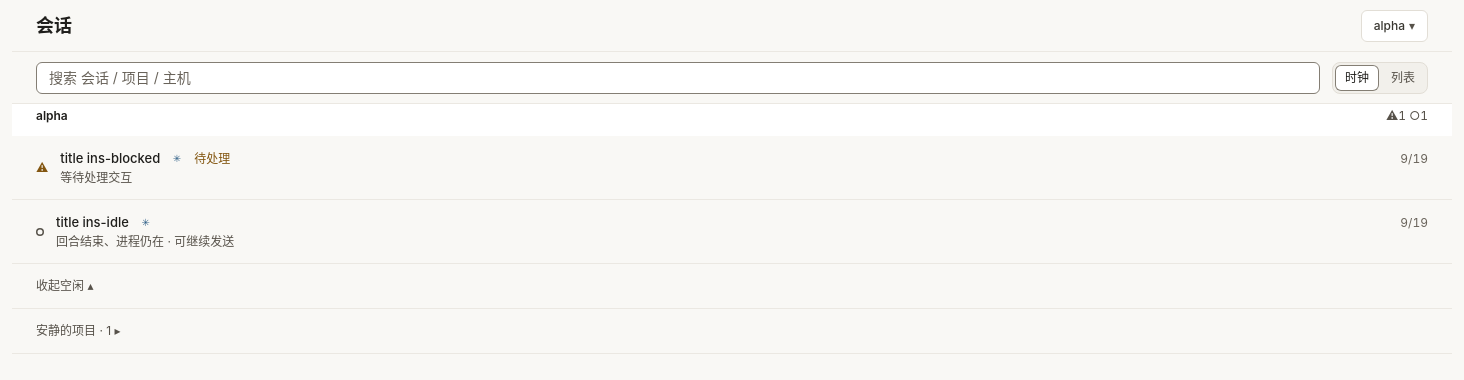
Test: HomeList folds during a search › hides both fold toggles while the search box has text
The image size is (1464, 380).
Check: the button with test id "home-idle-fold" is shown, box x1=12 y1=264 x2=1452 y2=308
Check: the button with test id "home-quiet-fold" is shown, box x1=12 y1=309 x2=1452 y2=353
In the search field with test id "home-search": (678, 78) x1=36 y1=62 x2=1320 y2=94, type "ins-"
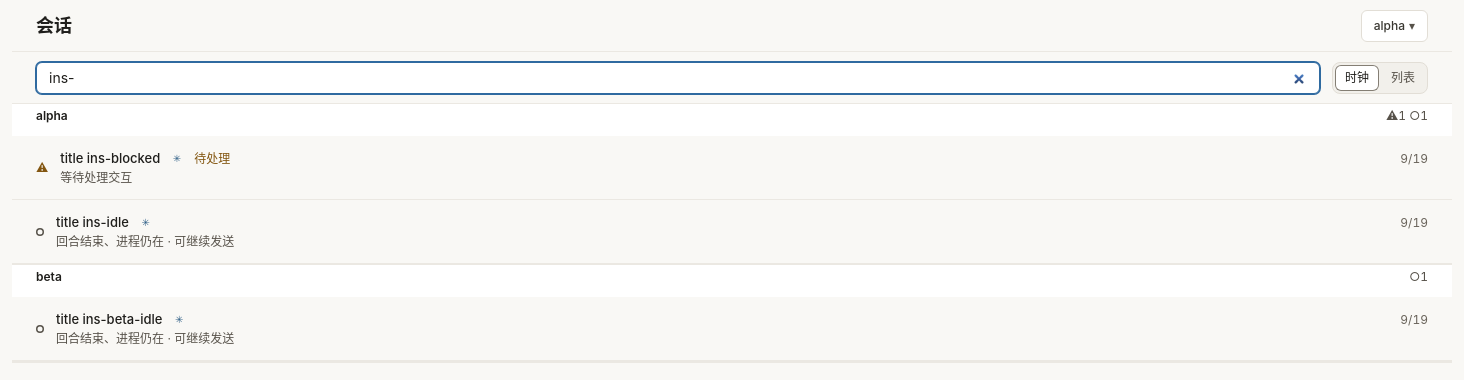
Check: the button with test id "home-idle-fold" is gone
Check: the button with test id "home-quiet-fold" is gone
